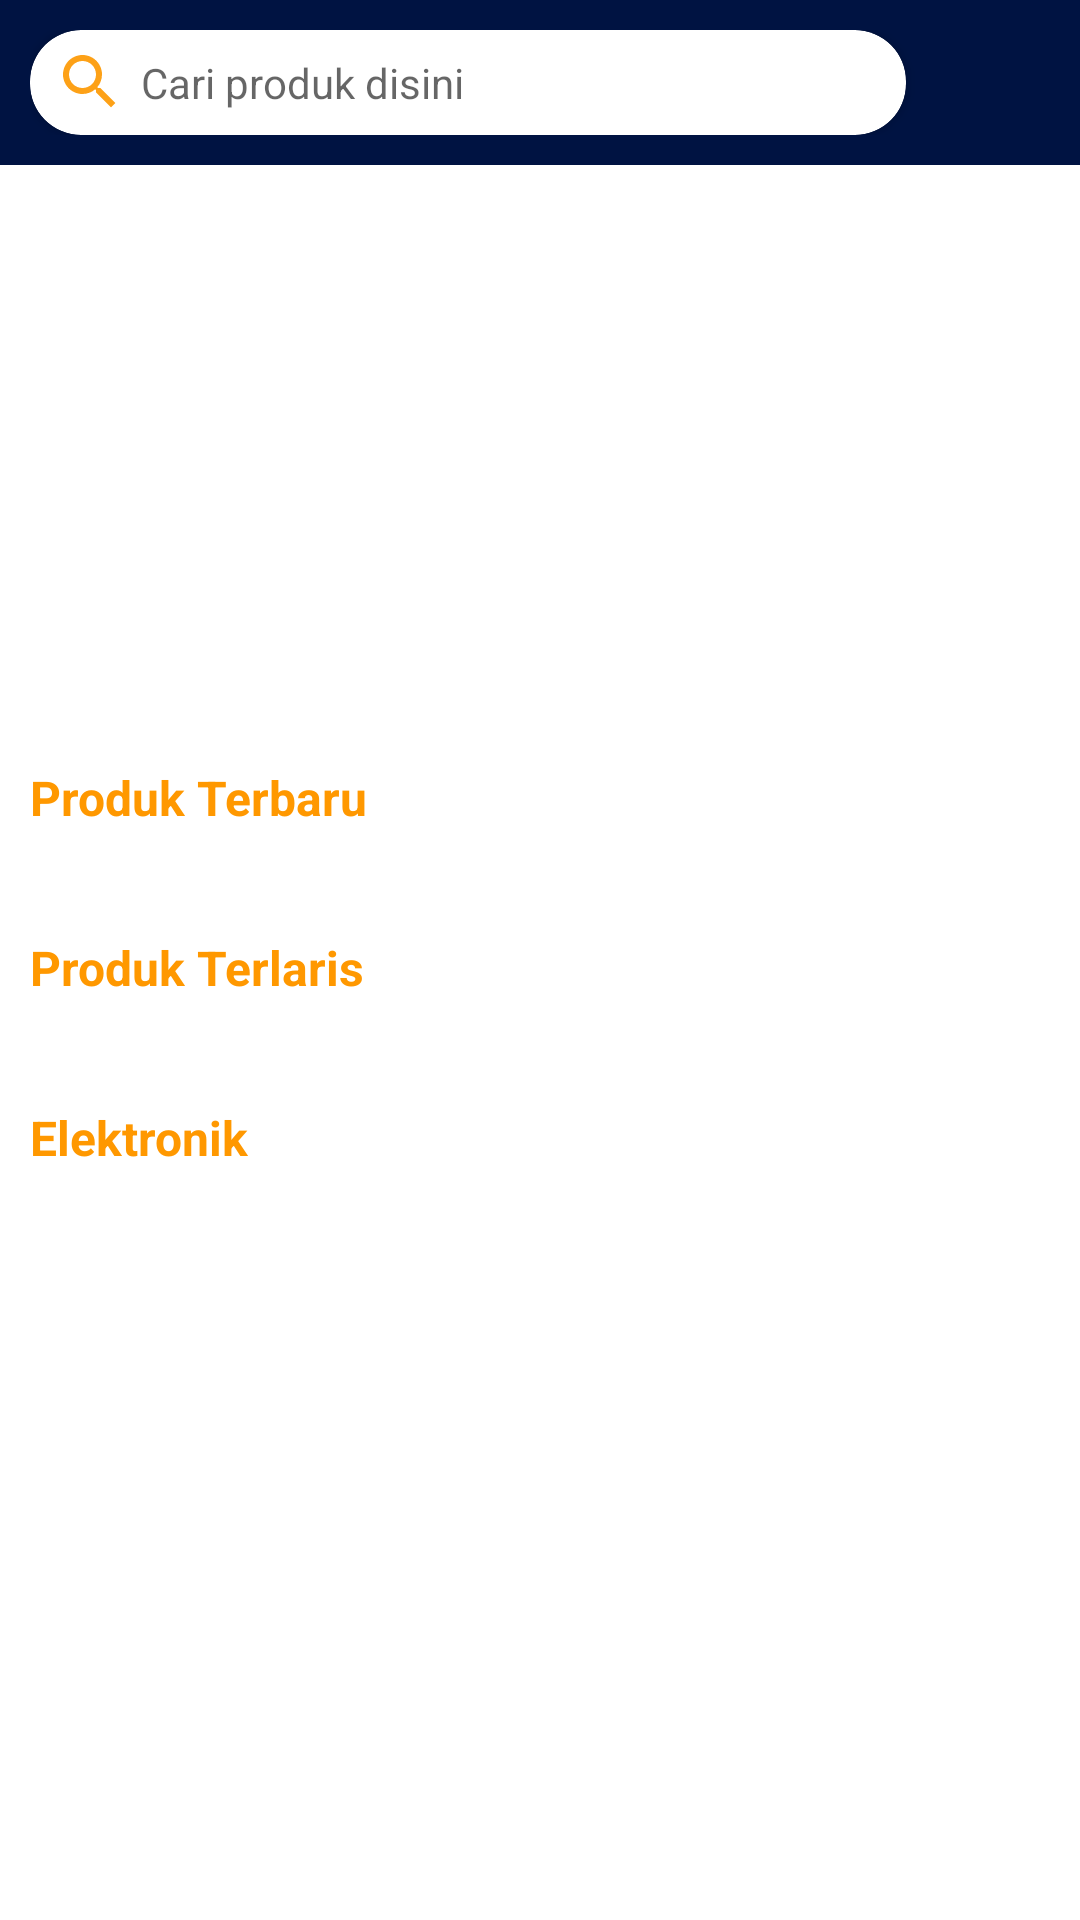

Point at icon controls on the screen. Image size 1080px×1920px, points as (x,y).
search: (89,81)
